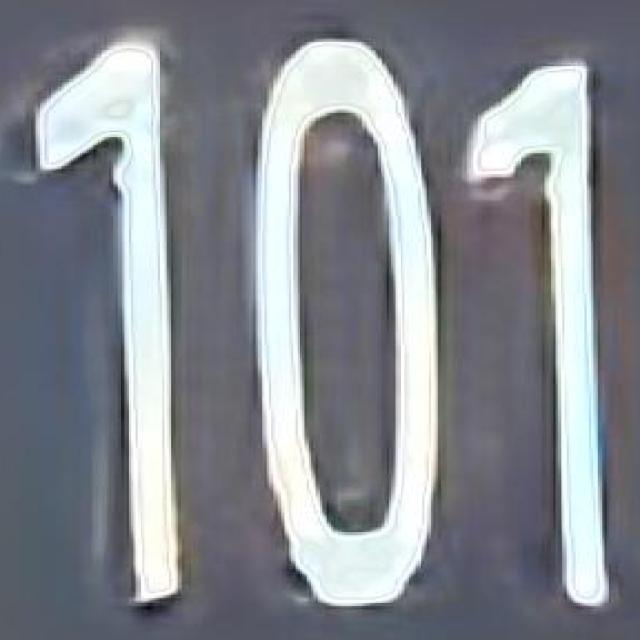character: (244, 33, 452, 616), (27, 37, 205, 615), (462, 55, 624, 616)
